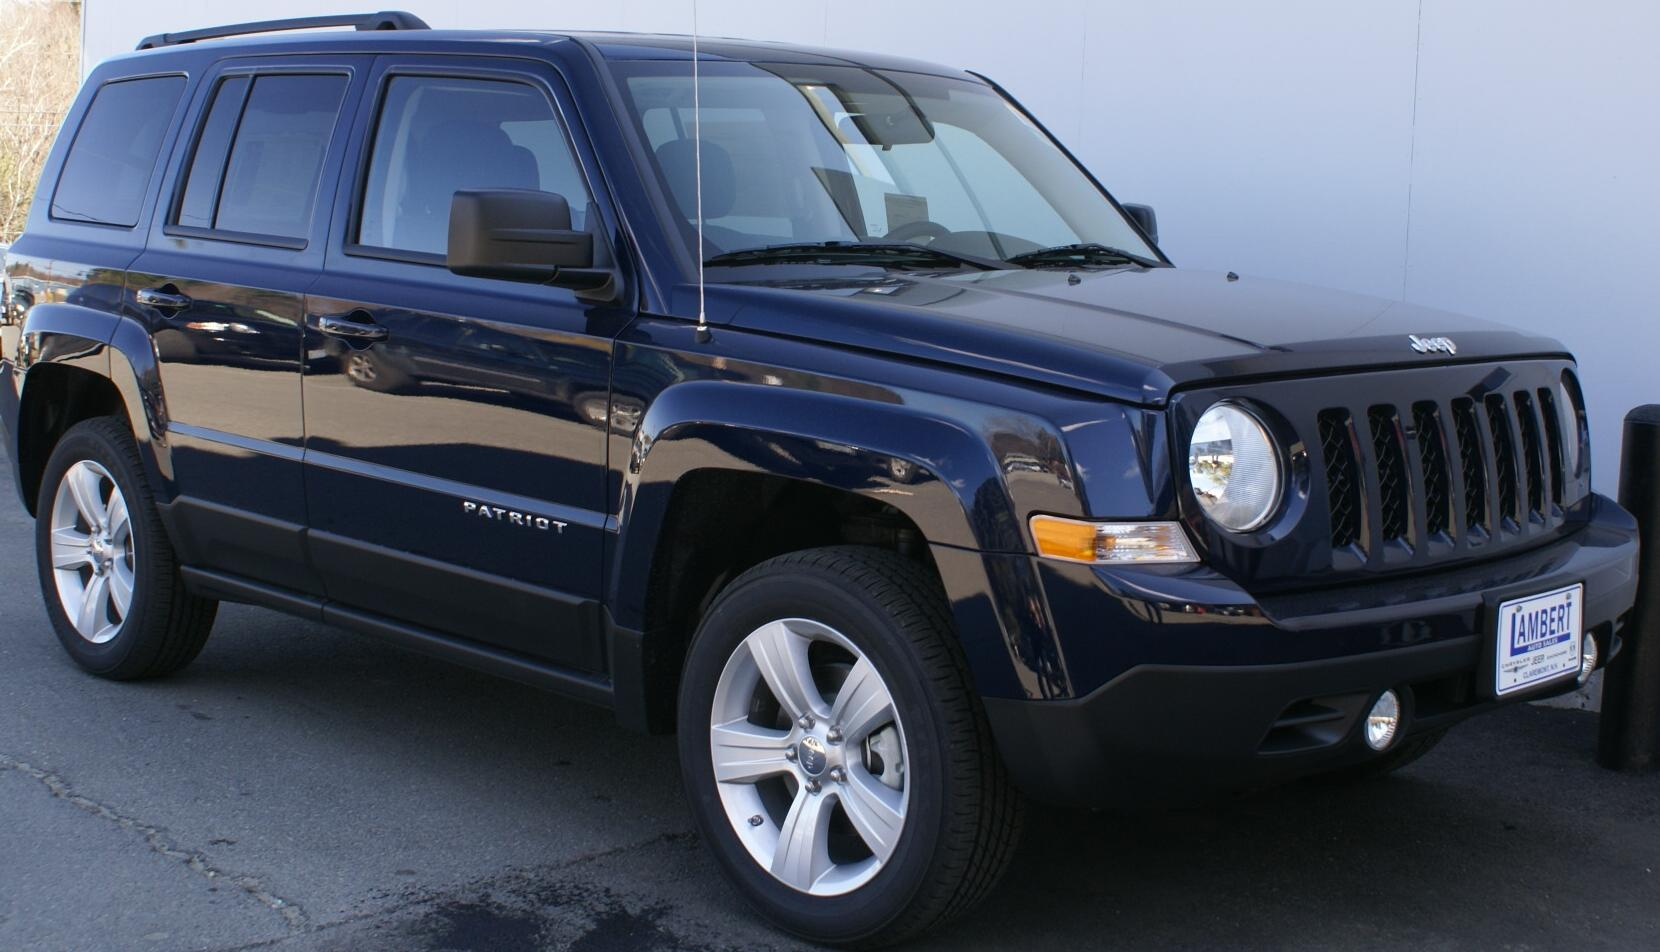front_view: (1031, 334, 1647, 806)
headlight: (1014, 371, 1302, 587)
side_glass: (44, 44, 634, 308)
